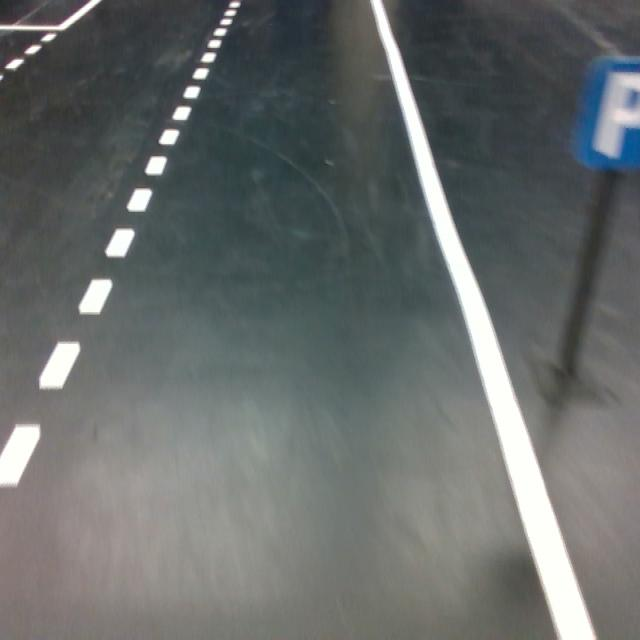parking-sign: (566, 53, 640, 175)
